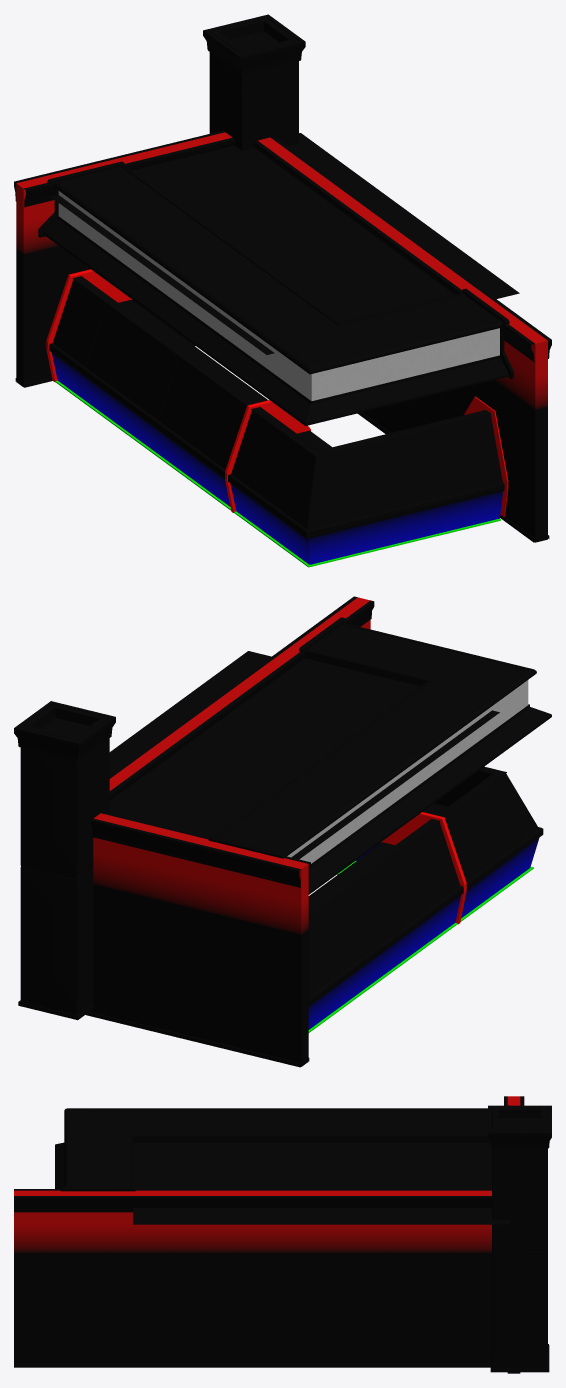
Rendered from Stall_01_merged.fbx.
3 renders of one model, top to bottom at view 1: azimuth 30°, elevation 25°; view 2: azimuth 150°, elevation 25°; view 3: azimuth 270°, elevation 25°, orthographic. The views are drawn at different scales.
Parts seen in each view (by area): view 1: Stall_01_merged; view 2: Stall_01_merged; view 3: Stall_01_merged.
Boxes of the visible parts, left/top/right/bottom form: Stall_01_merged: left=14, top=14, right=551, bottom=567; Stall_01_merged: left=14, top=596, right=551, bottom=1067; Stall_01_merged: left=14, top=1096, right=551, bottom=1373.
Bounding box in the file's own units: 440 × 435 × 855.
